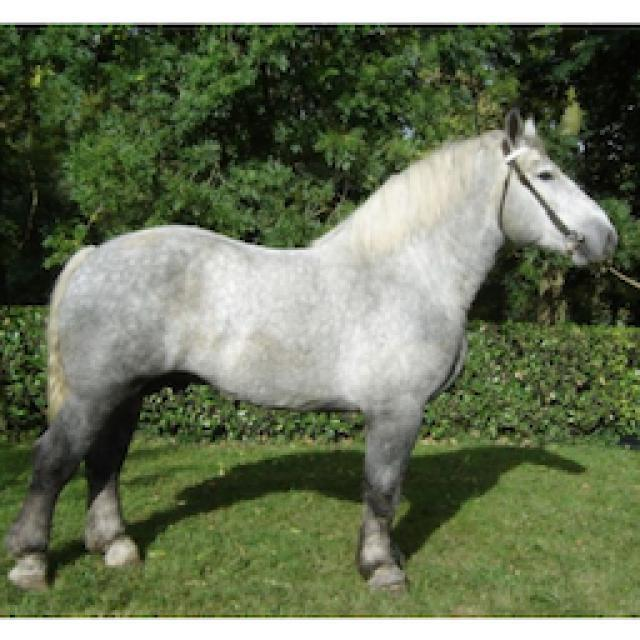Horse: (0, 102, 622, 599)
